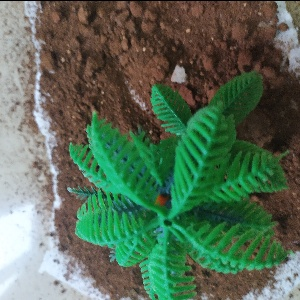plant: (57, 74, 298, 294)
